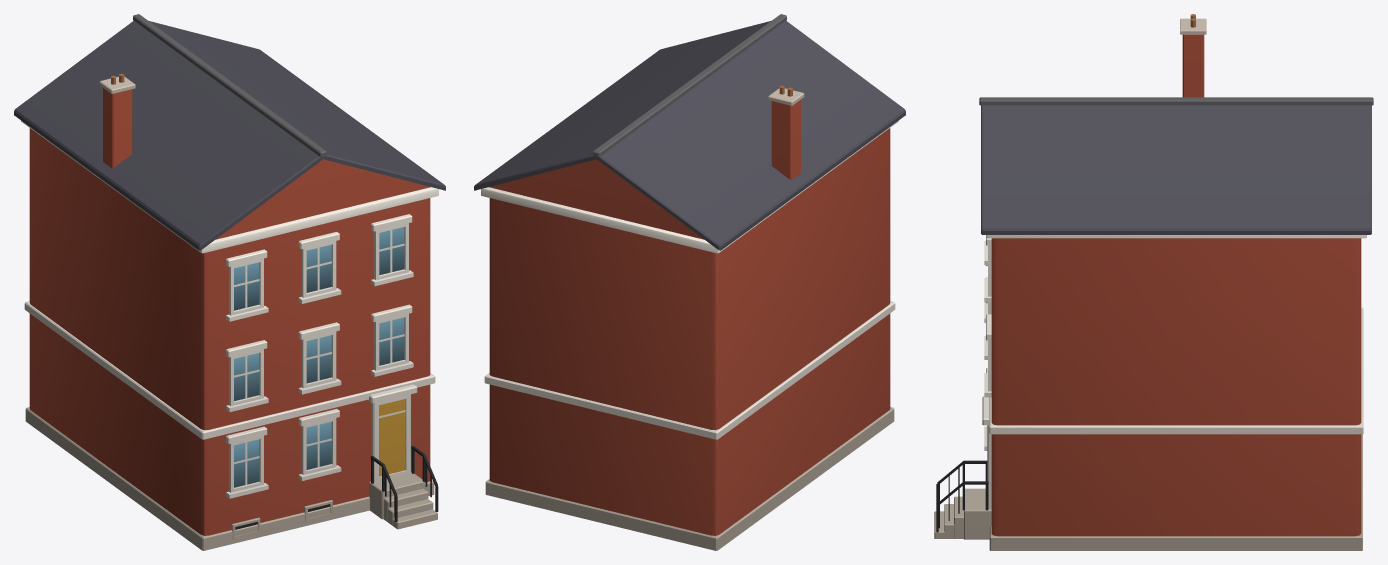
File: lane_e4.glb
The picture shows the model from 3 angles, left to right: view 1: azimuth 30°, elevation 25°; view 2: azimuth 150°, elevation 25°; view 3: azimuth 270°, elevation 25°; orthographic projection. The views are drawn at different scales.
Visible parts, largest first — view 1: lane_e4; view 2: lane_e4; view 3: lane_e4.
Part boxes in pixels (x1=…): lane_e4: x1=14, y1=14, x2=445, y2=550; lane_e4: x1=474, y1=14, x2=905, y2=550; lane_e4: x1=934, y1=14, x2=1373, y2=550.
Size of the model in its own units: 9.7 by 15.07 by 14.26.
1 material, 1 textured.
